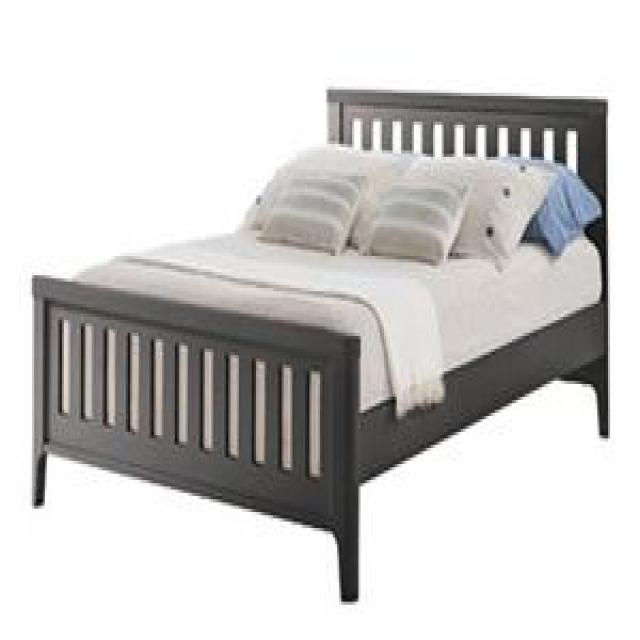bed: (30, 86, 614, 608)
